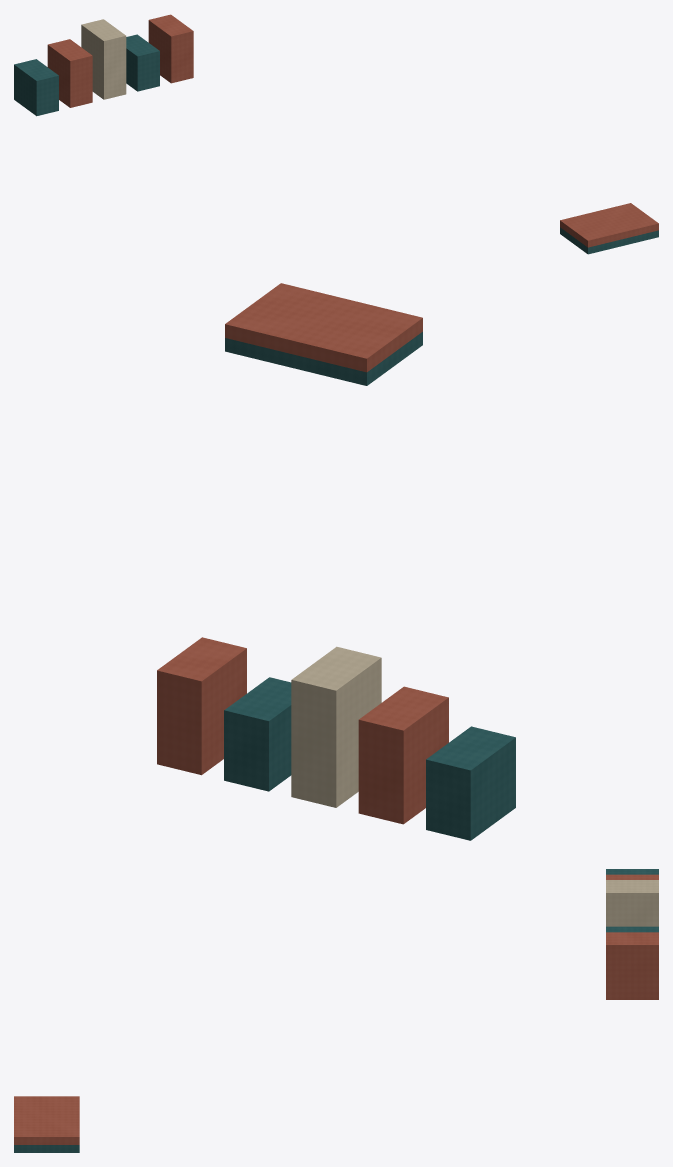
The model's file is detail_props.glb.
The picture shows the model from 3 angles, top to bottom: view 1: azimuth 30°, elevation 25°; view 2: azimuth 150°, elevation 25°; view 3: azimuth 270°, elevation 25°; orthographic projection. The views are drawn at different scales.
Parts seen in each view (by area): view 1: SUI_DeskBook_2, SUI_TableBook_1, SUI_DeskBook_4, SUI_DeskBook_1, SUI_DeskBook_0, SUI_DeskBook_3, SUI_TableBook_0; view 2: SUI_DeskBook_2, SUI_TableBook_1, SUI_DeskBook_1, SUI_DeskBook_4, SUI_DeskBook_0, SUI_DeskBook_3, SUI_TableBook_0; view 3: SUI_DeskBook_4, SUI_TableBook_1, SUI_DeskBook_2, SUI_TableBook_0.
Part boxes in pixels (box(x1,y1,x2,y2)): SUI_DeskBook_2: box(81, 19, 126, 99); SUI_TableBook_1: box(560, 203, 658, 247); SUI_DeskBook_4: box(148, 14, 193, 83); SUI_DeskBook_1: box(47, 39, 92, 107); SUI_DeskBook_0: box(14, 59, 58, 116); SUI_DeskBook_3: box(126, 34, 159, 91); SUI_TableBook_0: box(560, 227, 658, 254); SUI_DeskBook_2: box(291, 646, 381, 807); SUI_TableBook_1: box(225, 283, 422, 372); SUI_DeskBook_1: box(358, 686, 448, 824); SUI_DeskBook_4: box(157, 637, 246, 775); SUI_DeskBook_0: box(426, 726, 515, 840); SUI_DeskBook_3: box(224, 677, 291, 791); SUI_TableBook_0: box(225, 332, 422, 385); SUI_DeskBook_4: box(606, 932, 658, 999); SUI_TableBook_1: box(14, 1096, 79, 1144); SUI_DeskBook_2: box(606, 880, 658, 926); SUI_TableBook_0: box(14, 1145, 79, 1152).
Bounding box in the file's own units: 1.98 × 0.435 × 2.55.
Materials: 3 (3 with a texture image).
